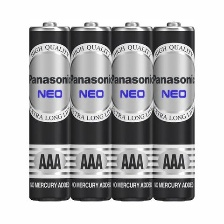battery: (150, 19, 197, 205), (26, 18, 73, 204), (68, 17, 114, 204), (109, 20, 155, 205)
